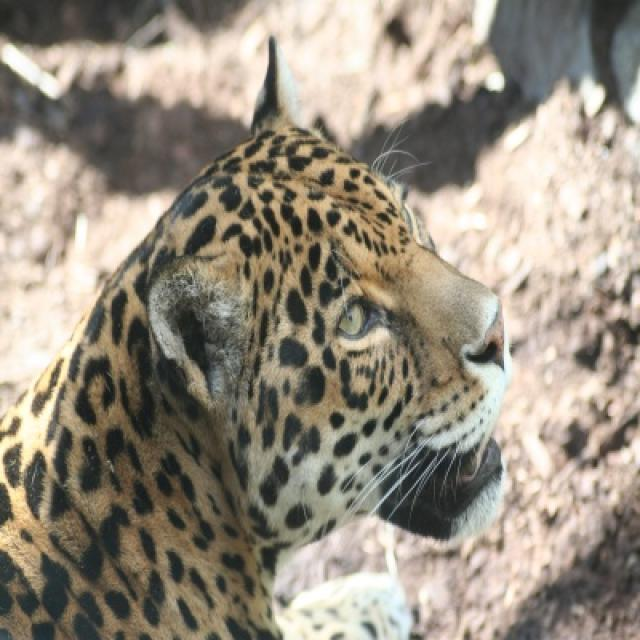Jaguar: (0, 40, 510, 638)
